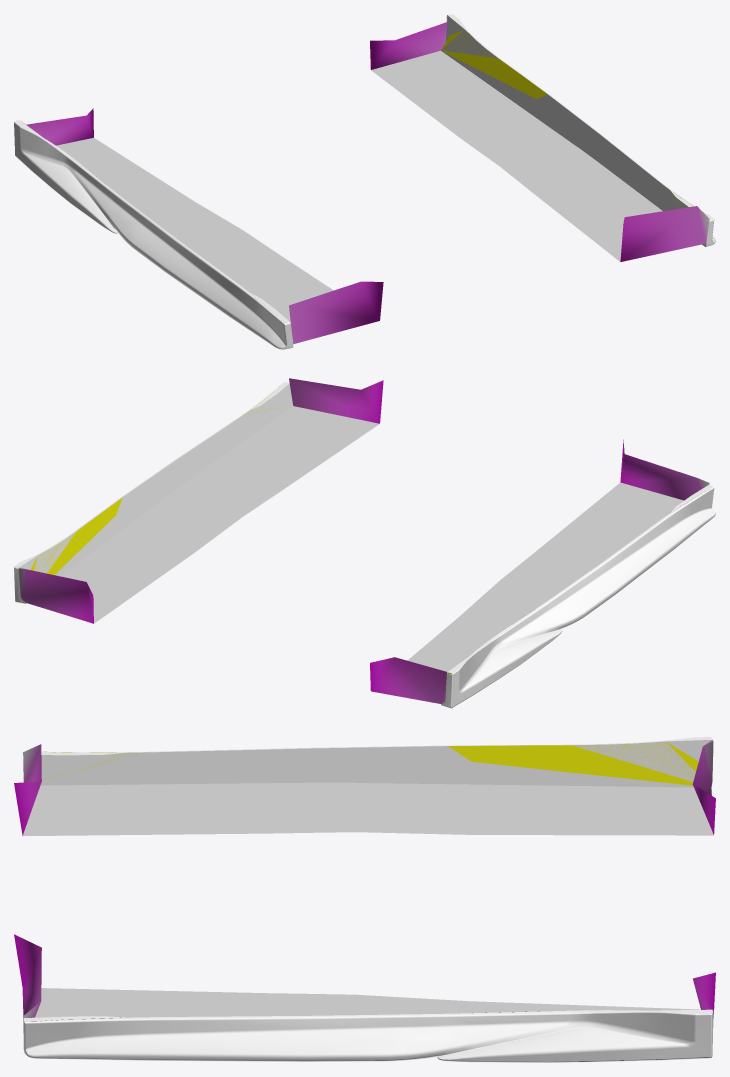
File: Car_Mini_CountrymanJCW_2017_Skirts_SetF_AltA.fbx
The picture shows the model from 3 angles, top to bottom: view 1: azimuth 30°, elevation 25°; view 2: azimuth 150°, elevation 25°; view 3: azimuth 270°, elevation 25°; orthographic projection. The views are drawn at different scales.
Parts seen in each view (by area): view 1: Skirts 6; view 2: Skirts 6; view 3: Skirts 6.
Boxes of the visible parts, x1=… form: Skirts 6: x1=14, y1=14, x2=715, y2=349; Skirts 6: x1=14, y1=378, x2=715, y2=708; Skirts 6: x1=14, y1=737, x2=715, y2=1062.
Bounding box in the file's own units: 1.82 × 0.1912 × 1.9.
